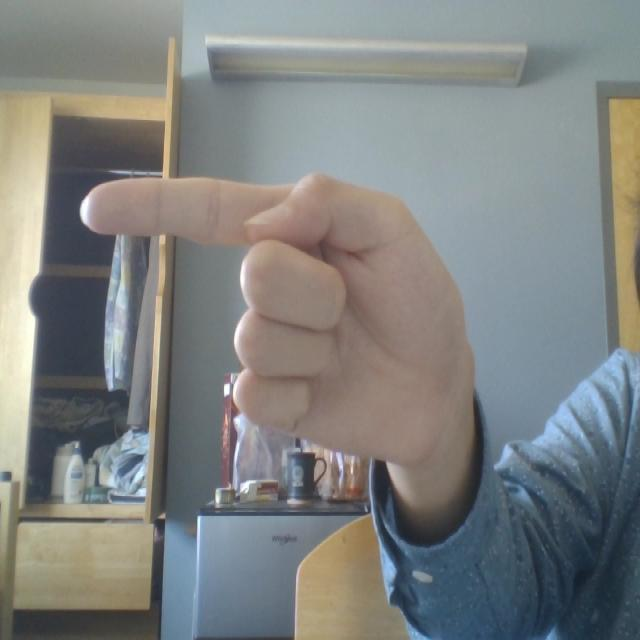G: (65, 101, 541, 548)
